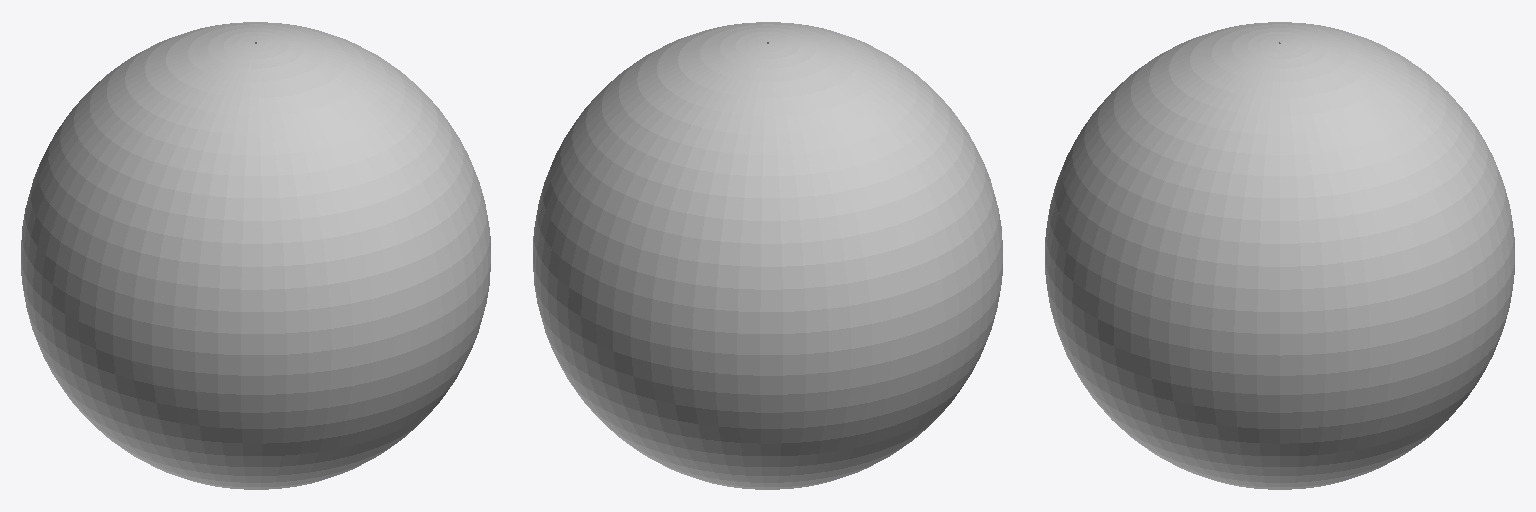
The model's file is sphere_perfect.obj.
3 views of the same model, side by side, from view 1: azimuth 30°, elevation 25°; view 2: azimuth 150°, elevation 25°; view 3: azimuth 270°, elevation 25° (orthographic).
Visible parts, largest first — view 1: Sphere.003; view 2: Sphere.003; view 3: Sphere.003.
Boxes of the visible parts, <box> form: Sphere.003: <box>21,22,490,489</box>; Sphere.003: <box>533,22,1002,489</box>; Sphere.003: <box>1045,22,1514,489</box>.
Bounding box in the file's own units: 1.97 × 1.97 × 1.97.